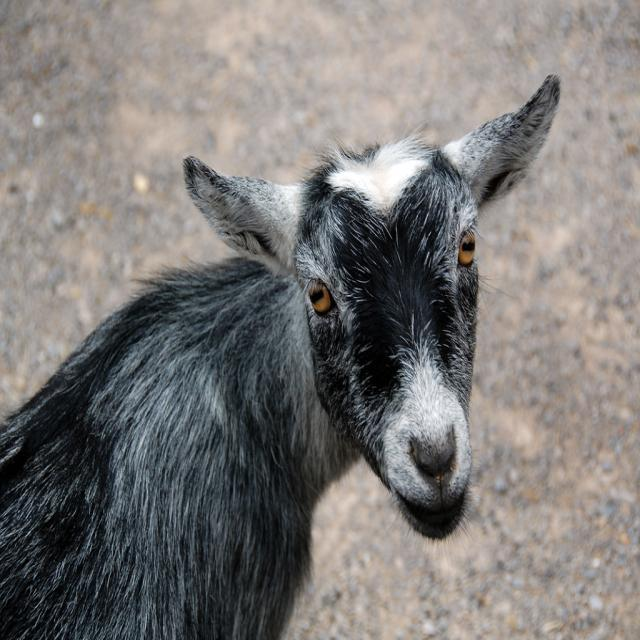Goat: (0, 72, 561, 638)
